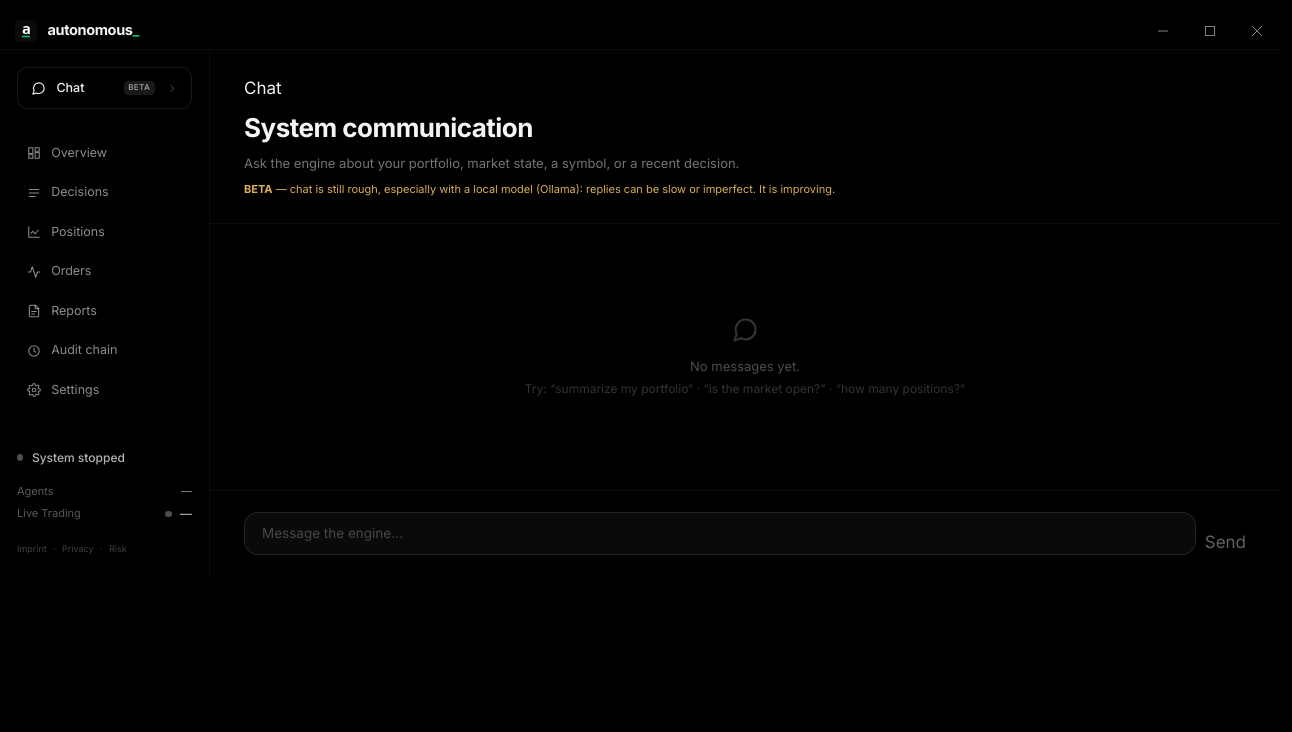
Journey · Operational trading (monitor the book) › Overview: equity + open-position count surface from the same book
The image size is (1292, 732).
Step 1. Click the button "Overview" → click(105, 153), box x1=13 y1=134 x2=196 y2=172
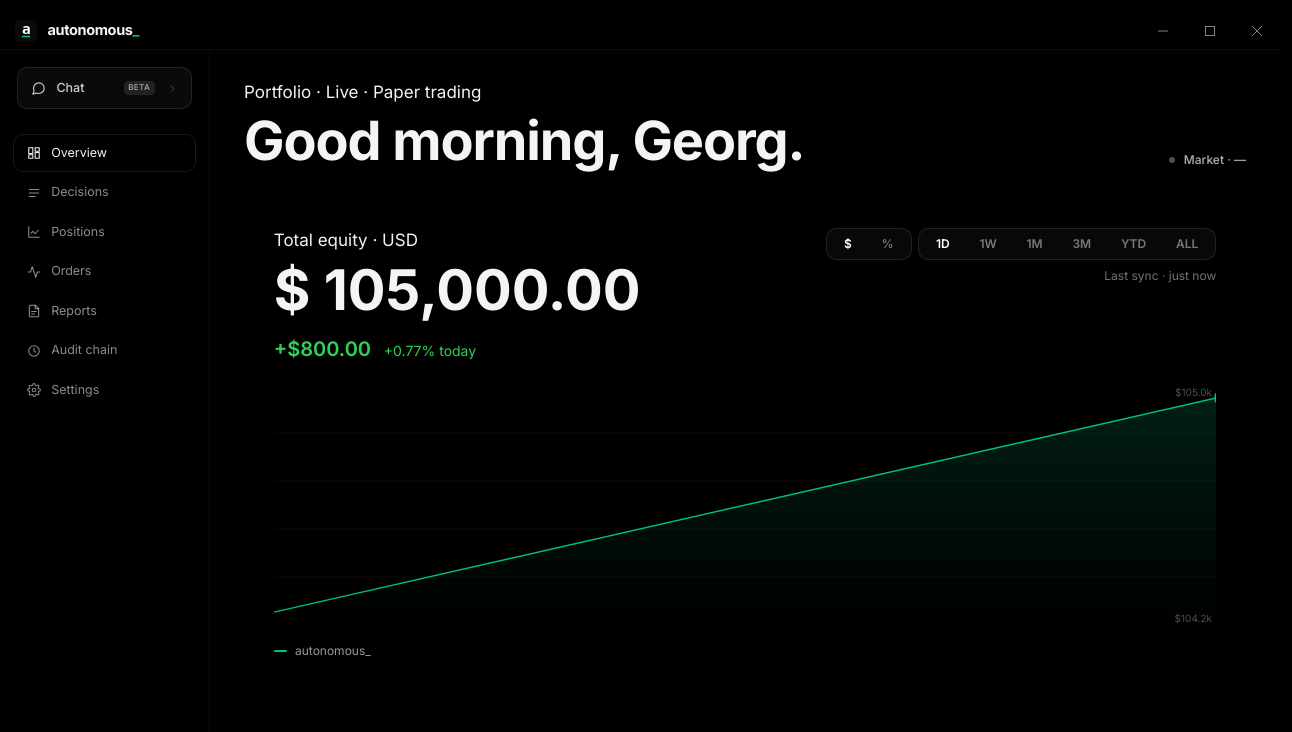
Now the text "$ 105,000.00" is shown, box x1=274 y1=262 x2=640 y2=318
